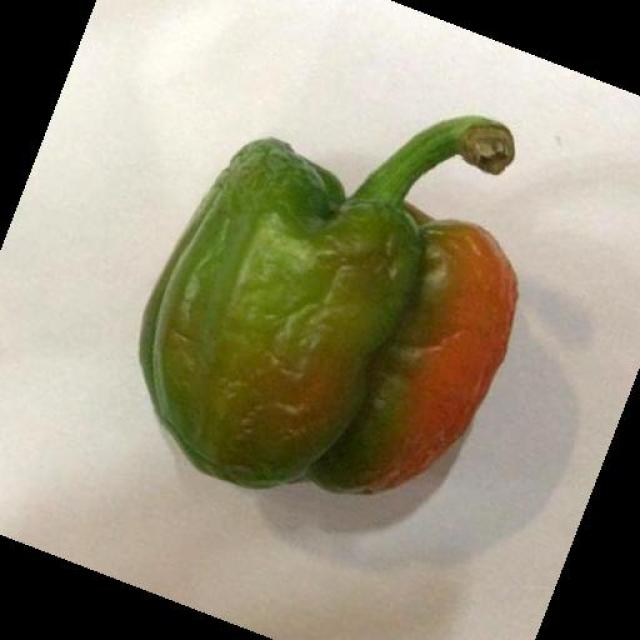Stale_Capsicum: (177, 85, 525, 515)
